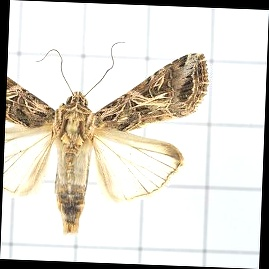Spodoptera litura: (5, 41, 208, 237)
